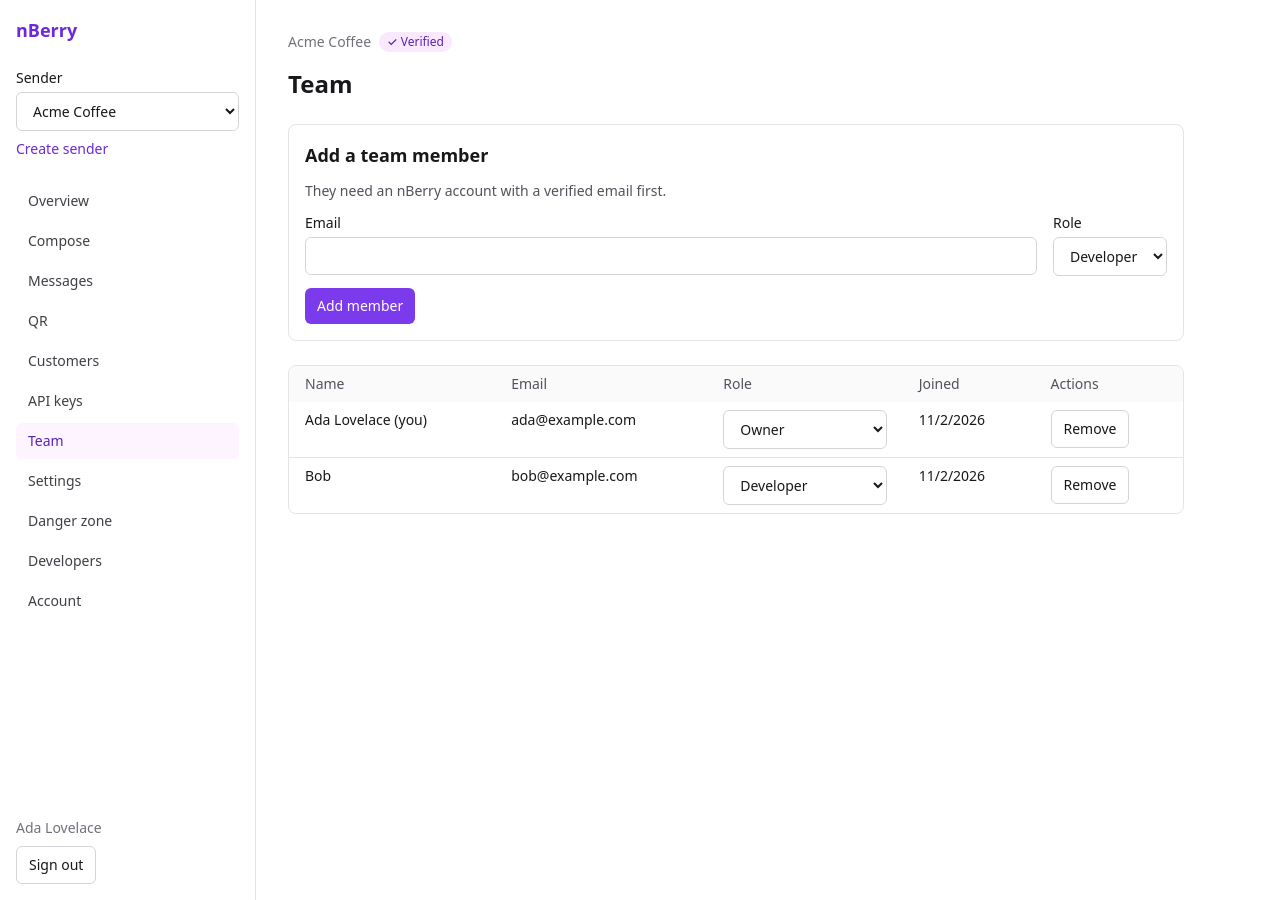
Test case: team › shows friendly copy for already_member
Type "bob@example.com" into the field labelled "Email" at (671, 256), box top-left (305, 237), bottom-right (1037, 275)
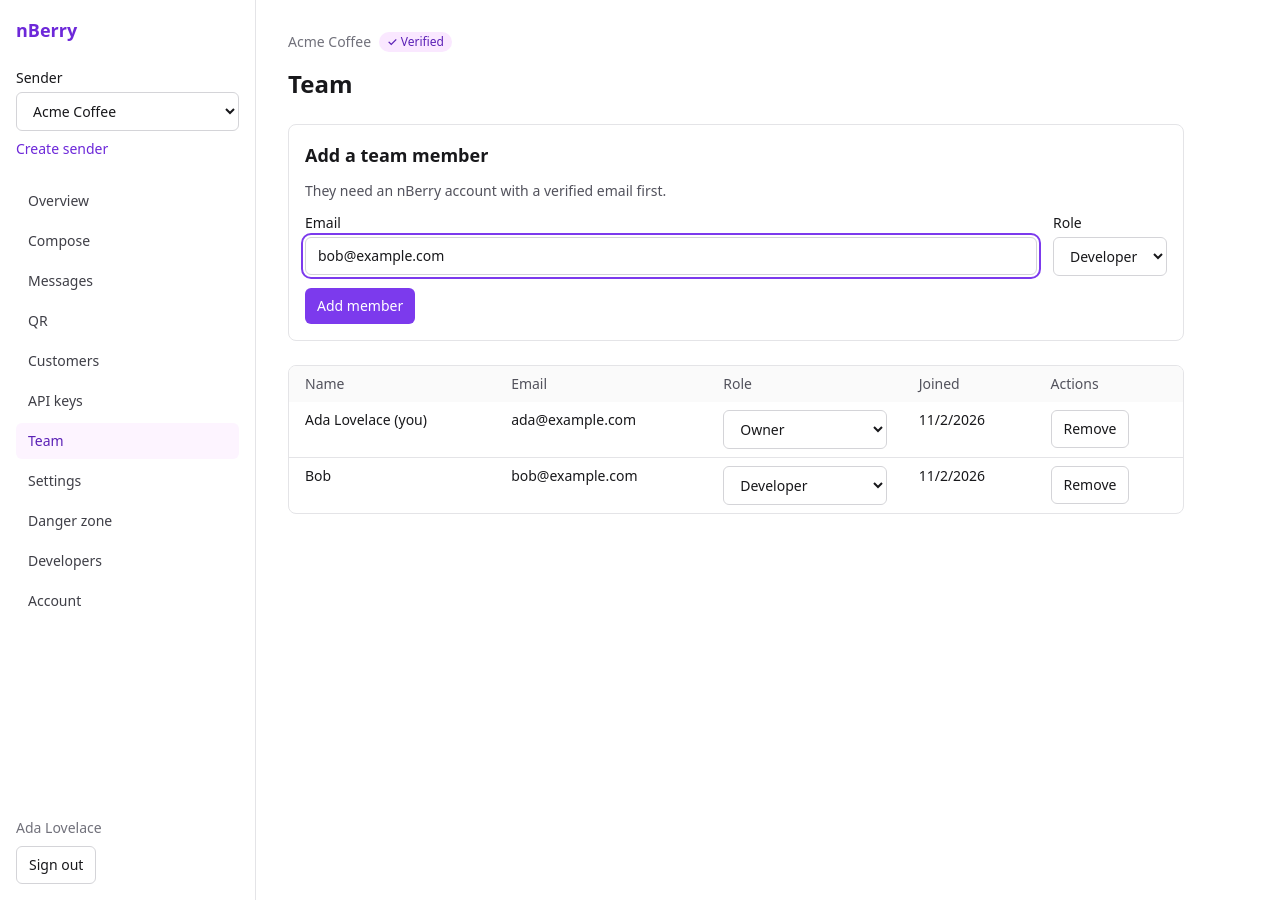
Click the button "Add member" at (360, 306), box top-left (305, 288), bottom-right (415, 324)
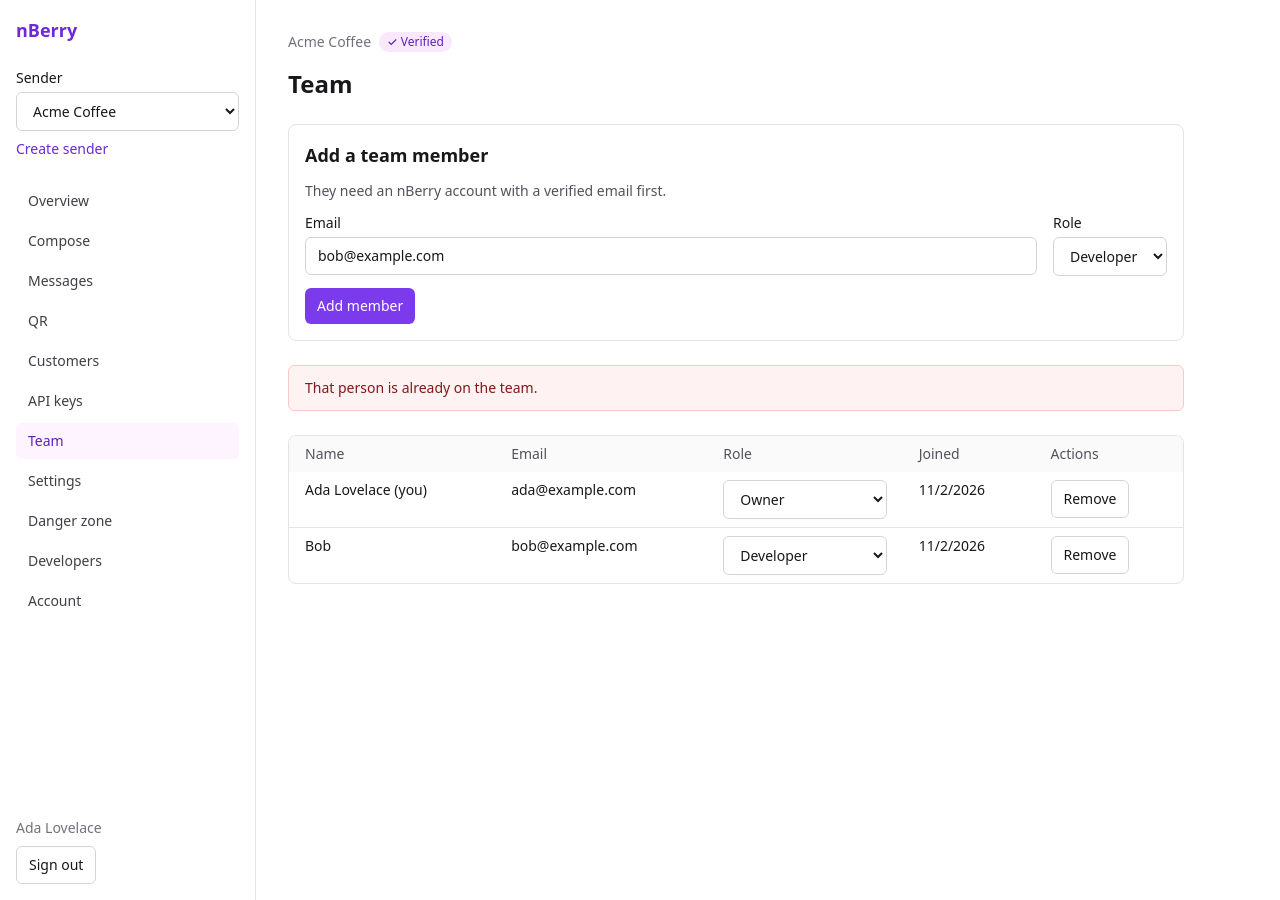
Expected: the text "That person is already on the team." is shown, top-left (288, 365), bottom-right (1184, 411)
